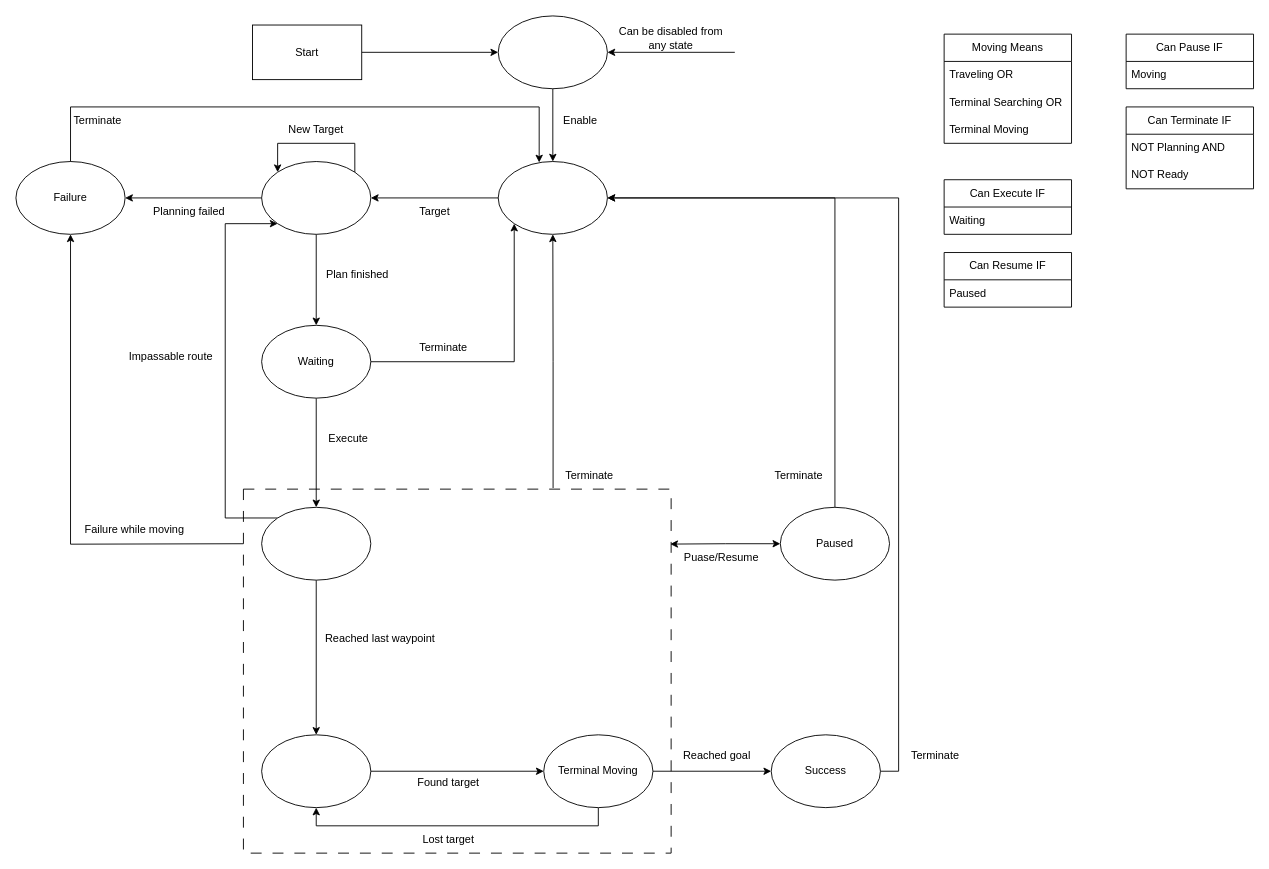
Some shapes in this 1269 by 869 pixel diagram are drawn without their labels. The shapes that lost their labels are listed below. From the top down, each one's centre as x and y in pixels, then its label:
At (552,52): "Disabled".
At (316,197): "Planning".
At (552,197): "Ready".
At (316,543): "Traveling".
At (316,771): "Terminal Searching".
